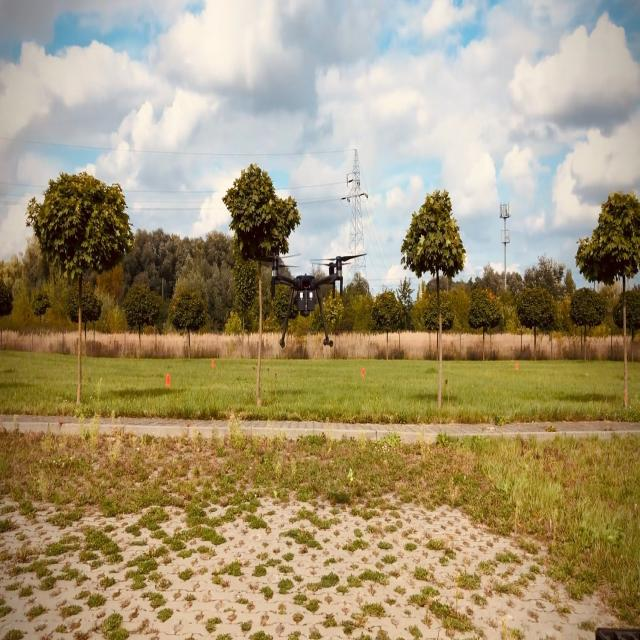drone: (253, 247, 368, 349)
